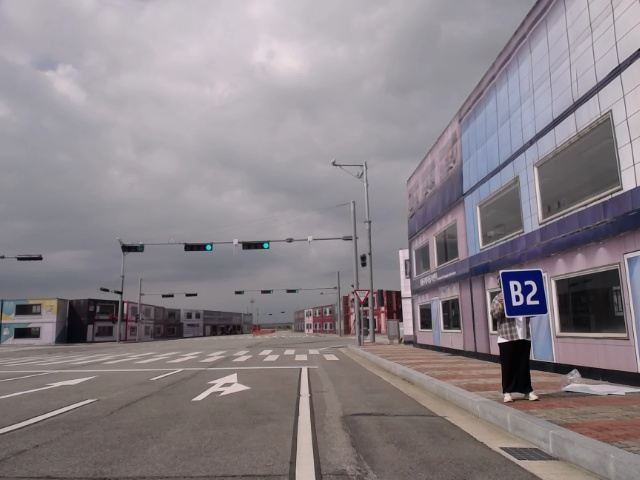delivery_b2: (497, 268, 550, 316)
straight_green_4: (181, 241, 215, 253), (241, 239, 272, 250), (285, 288, 301, 295), (260, 289, 275, 295)
